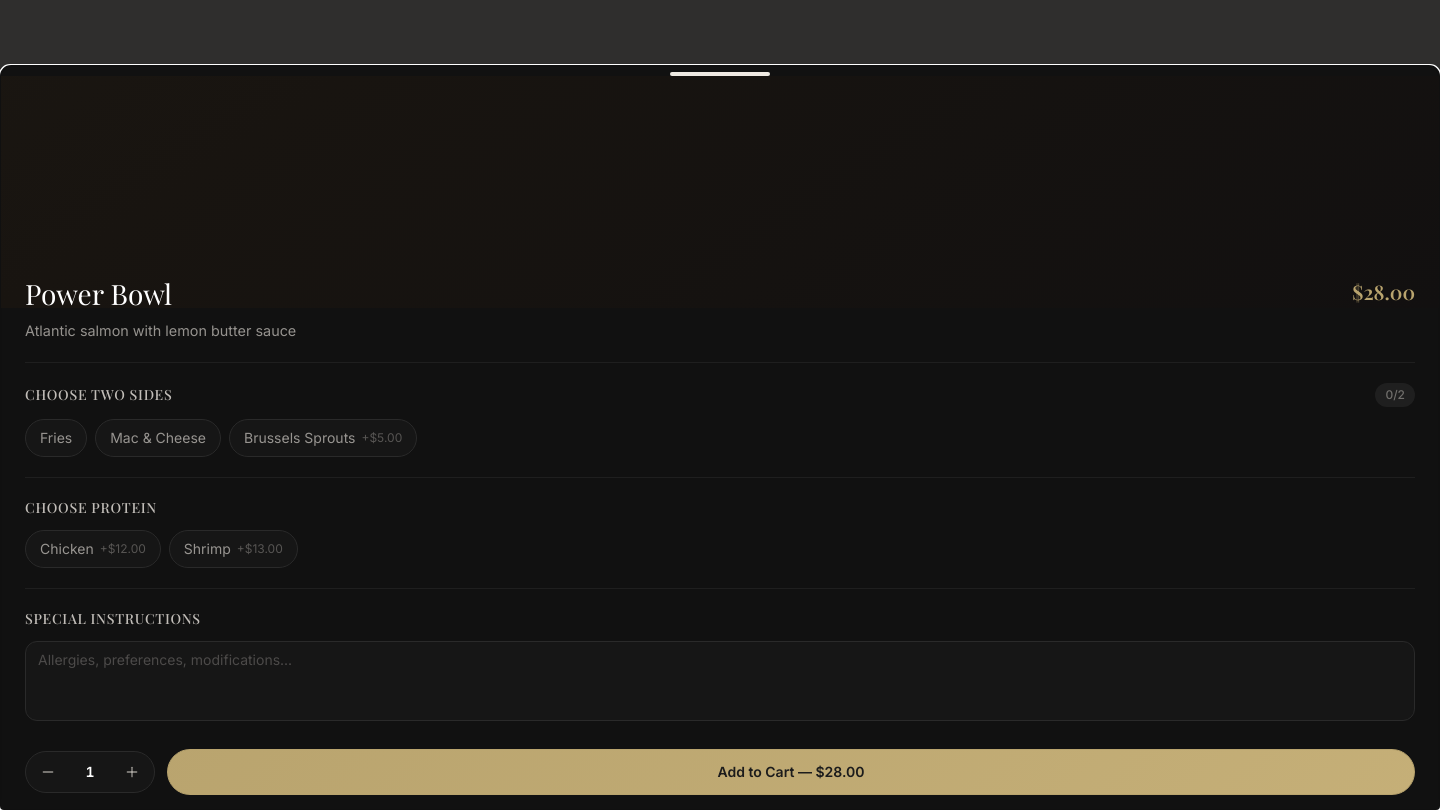
Scenario: ItemModal › toggles modifier selection on click
This screenshot has width=1440, height=810.
(page scrolled)
Click the button "Fries": (56, 438) 25,419 -> 87,457
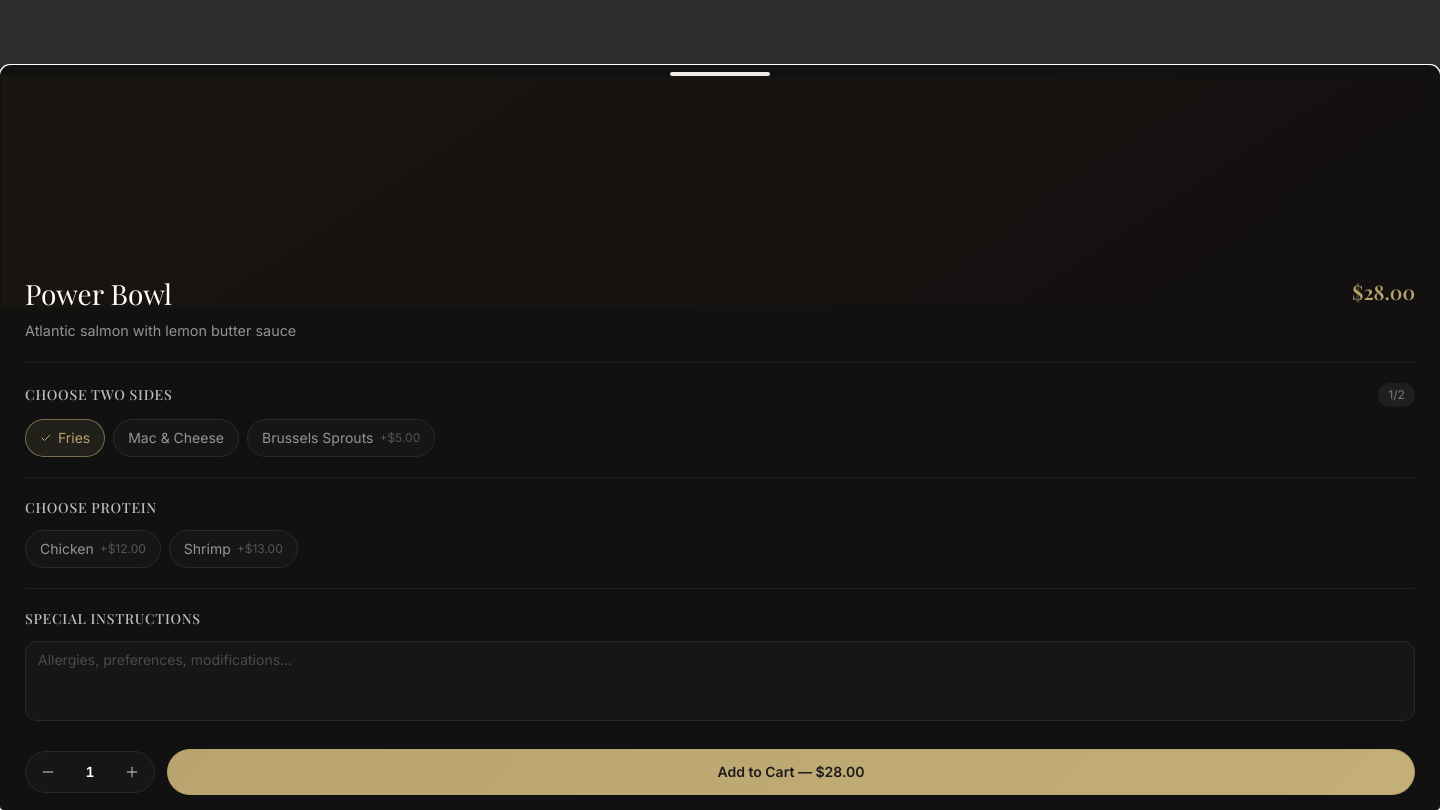
Check: the text "1/2" is shown, box 1378,383 -> 1415,407
// Click again to deselect
Click the button "Fries": (65, 438) 25,419 -> 105,457
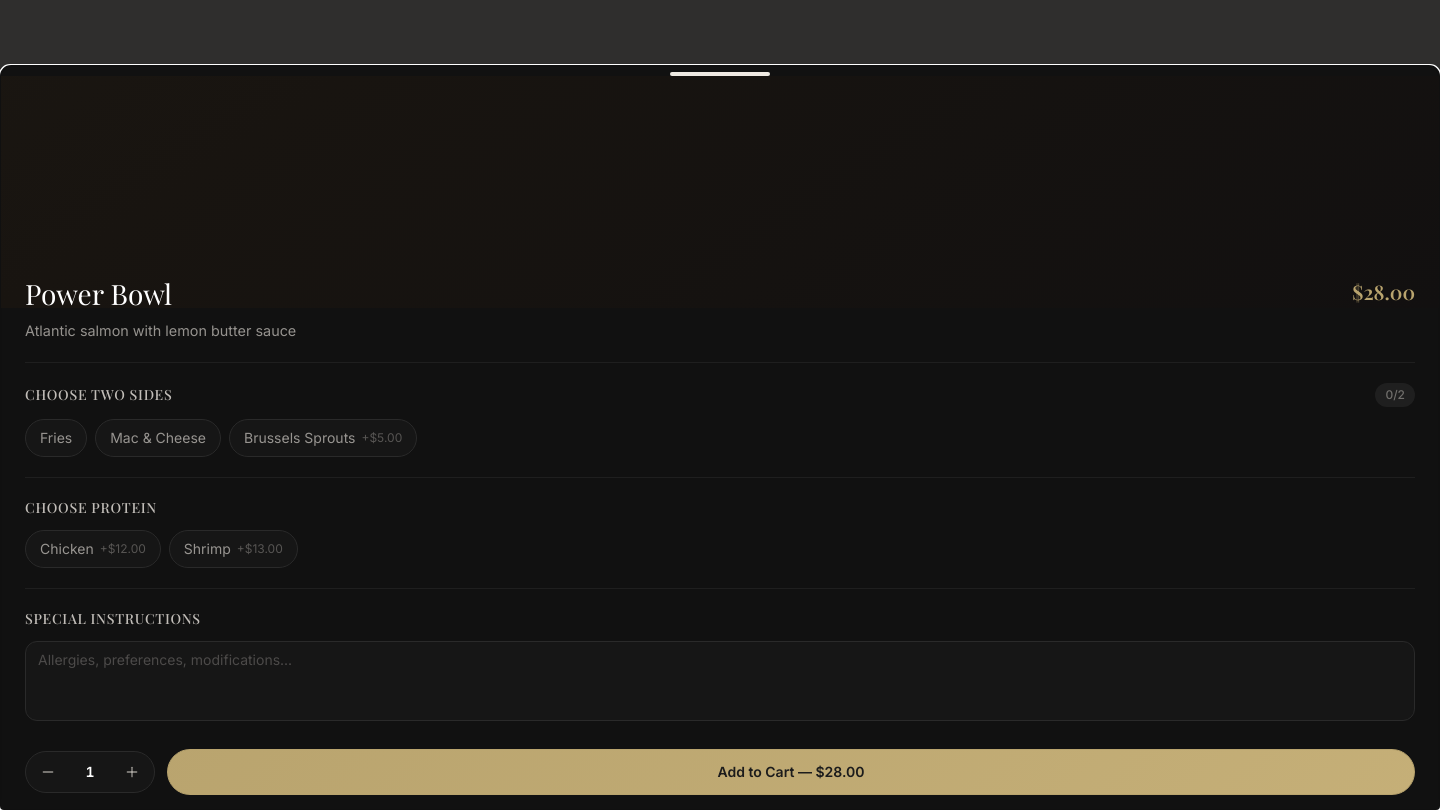
Check: the text "0/2" is shown, box 1375,383 -> 1415,407
